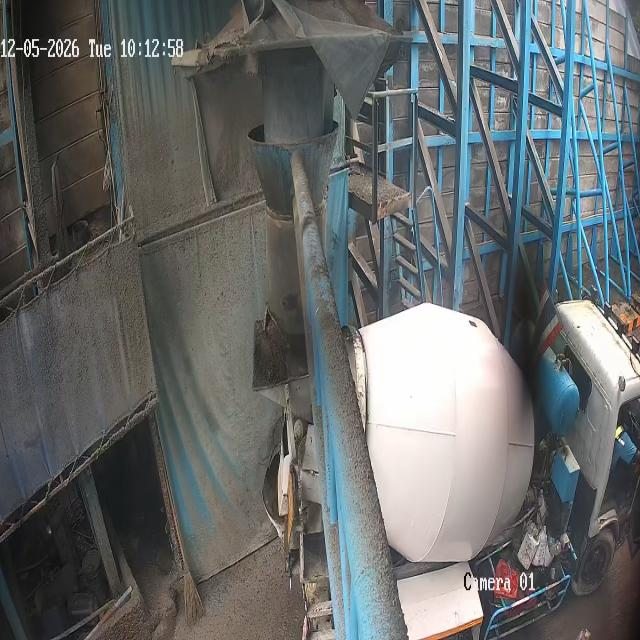cement_mixer_truck: (252, 314, 639, 640)
swing_chute: (247, 127, 339, 334)
